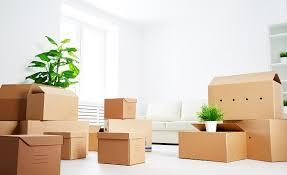Cardboard: (2, 3, 287, 175)
